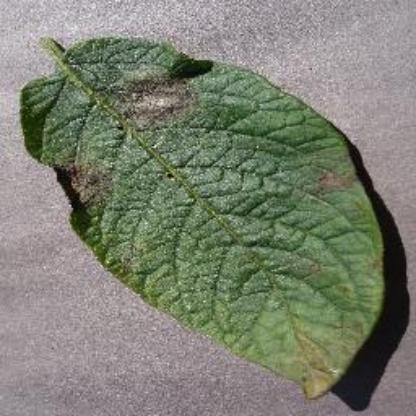Late-Blight: (18, 18, 400, 404)
